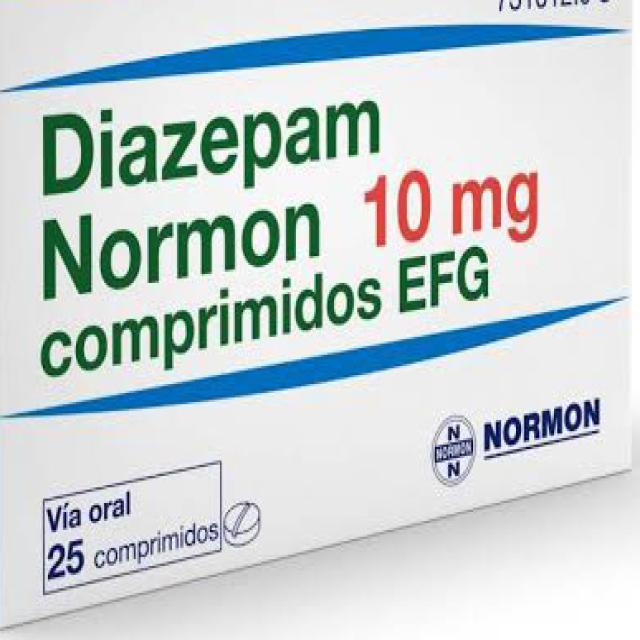drug-name: (40, 198, 325, 305)
